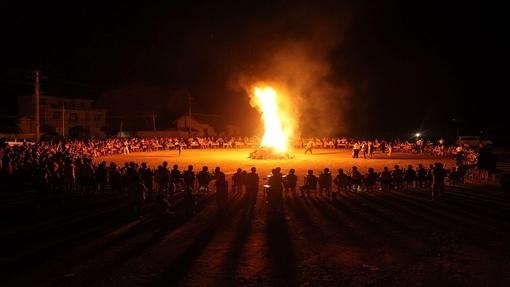fire: (250, 84, 295, 153)
